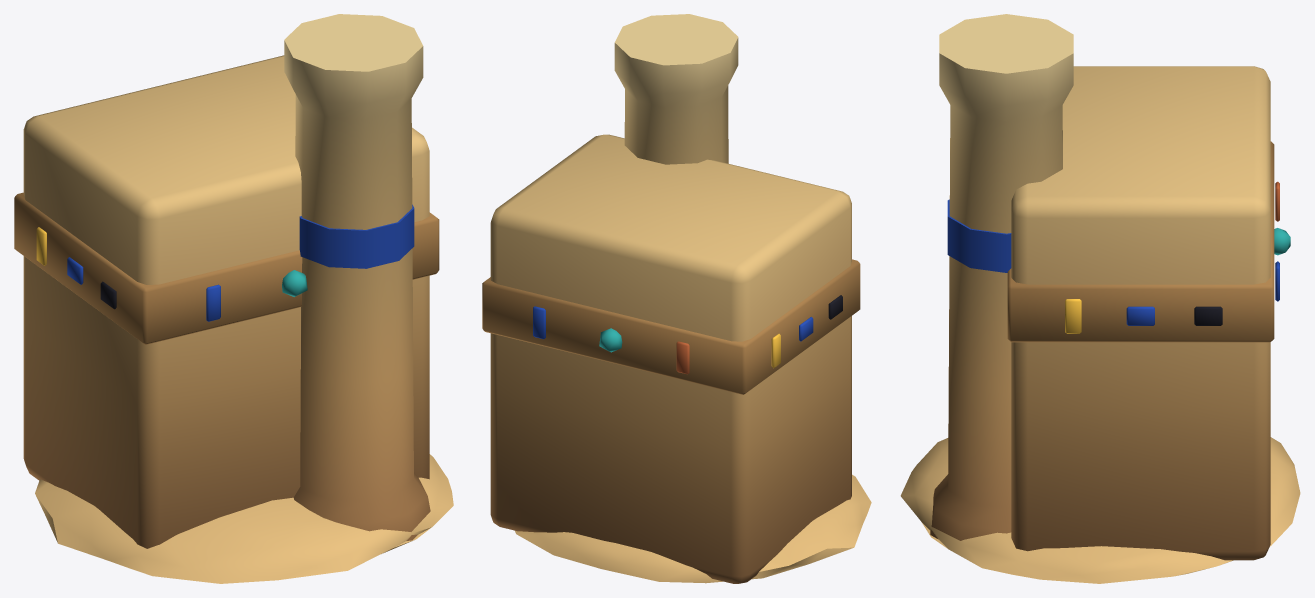
File: SandBlockC.fbx
3 views of the same model, side by side, from view 1: azimuth 30°, elevation 25°; view 2: azimuth 150°, elevation 25°; view 3: azimuth 270°, elevation 25° (orthographic). The views are drawn at different scales.
Visible parts, largest first — view 1: SandBlockC; view 2: SandBlockC; view 3: SandBlockC.
Part boxes in pixels (bbox=[...]): SandBlockC: bbox=[14, 14, 453, 583]; SandBlockC: bbox=[482, 14, 871, 583]; SandBlockC: bbox=[900, 14, 1300, 583].
Bounding box in the file's own units: 1.83 × 2.25 × 1.7.
Materials: 1 (1 with a texture image).
